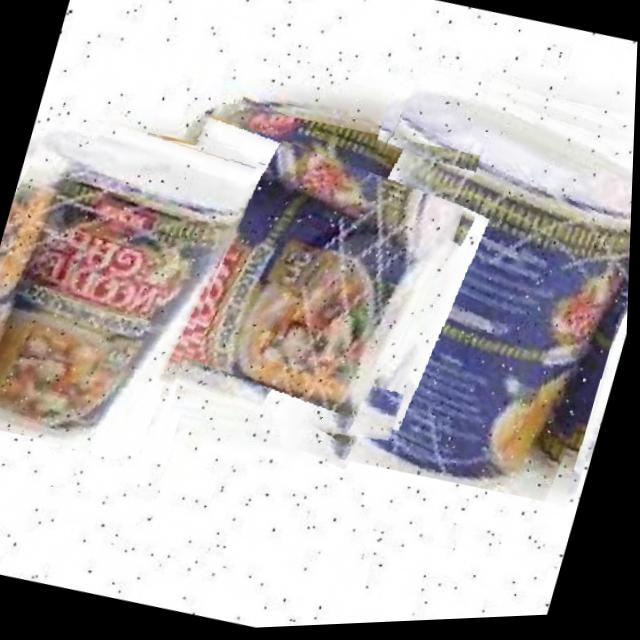Miscellaneous: (280, 49, 638, 524), (90, 84, 484, 480), (0, 100, 265, 480)
